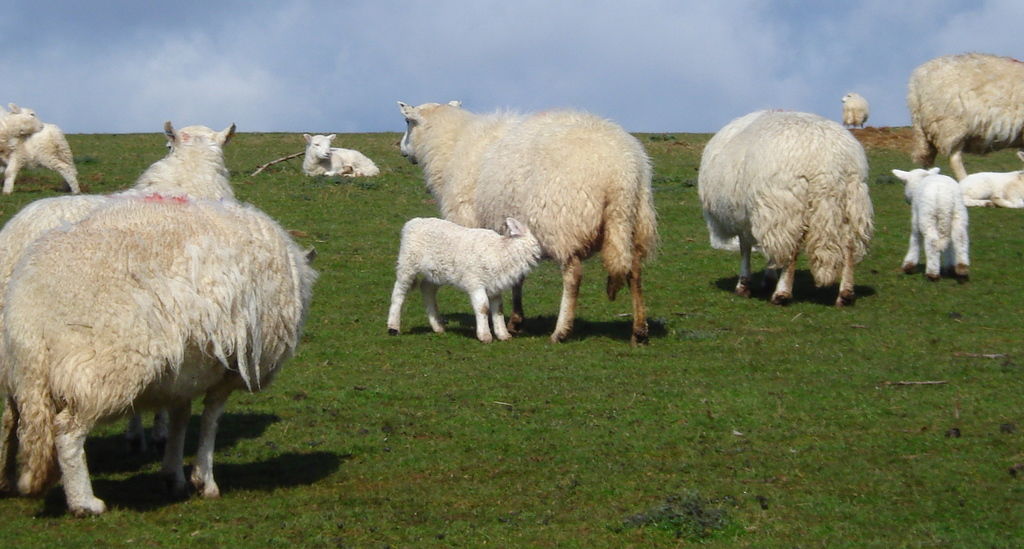sheep: (698, 104, 883, 307), (384, 215, 545, 343), (896, 169, 970, 284), (304, 131, 378, 174), (842, 92, 871, 126)
